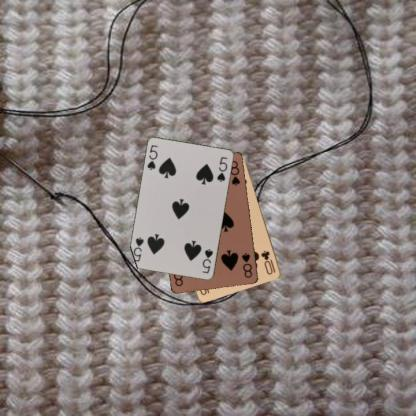10c: (259, 247, 277, 276)
5s: (144, 142, 159, 172), (200, 247, 214, 274)
8s: (239, 250, 254, 280)
